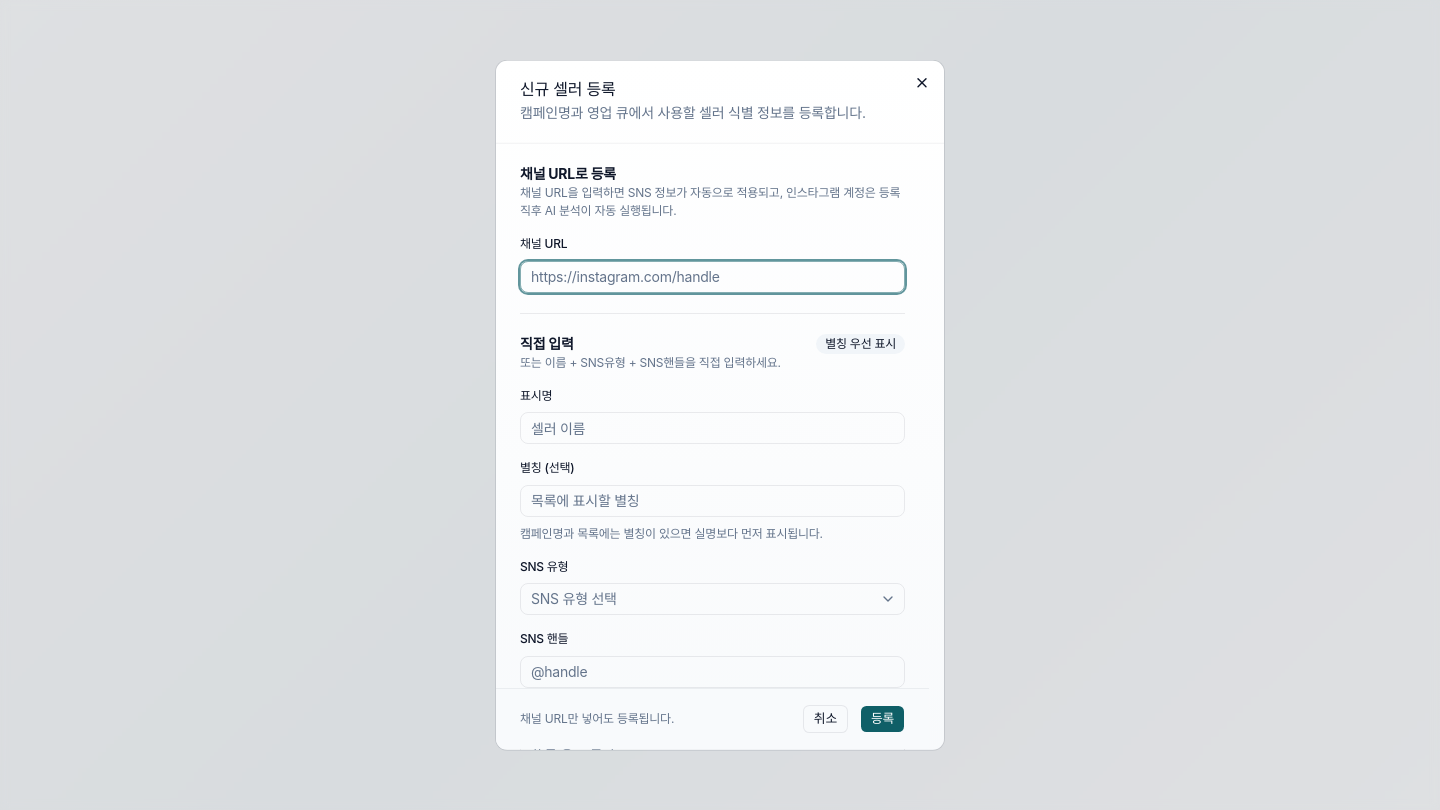
SellersPanel › Create mode › shows a field error for unsupported channel URL without posting
Type "https://example.com/test_user" into the field labelled "채널 URL" at (712, 276), box [520, 260, 905, 292]
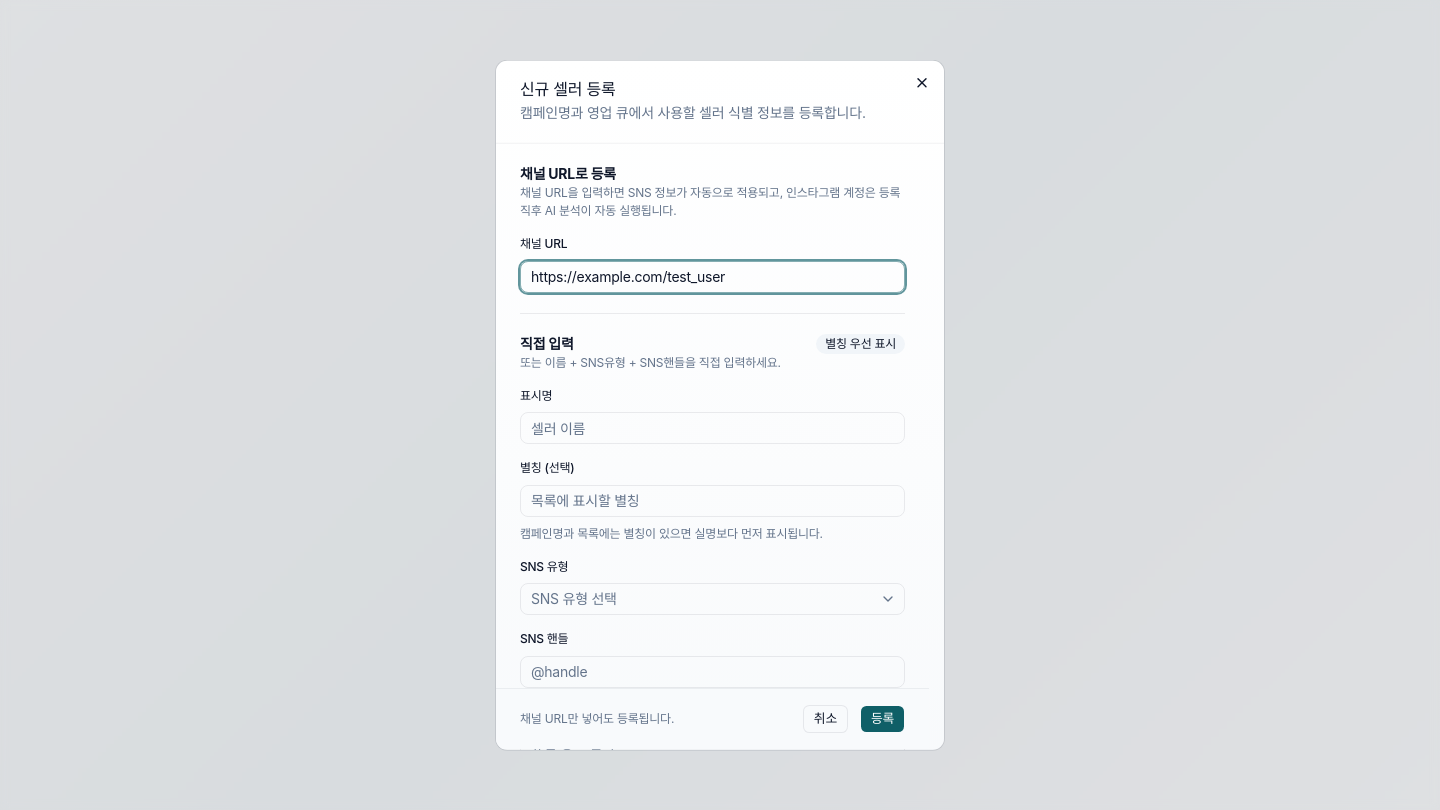
Click the button "등록" at (882, 719), box [860, 705, 905, 733]
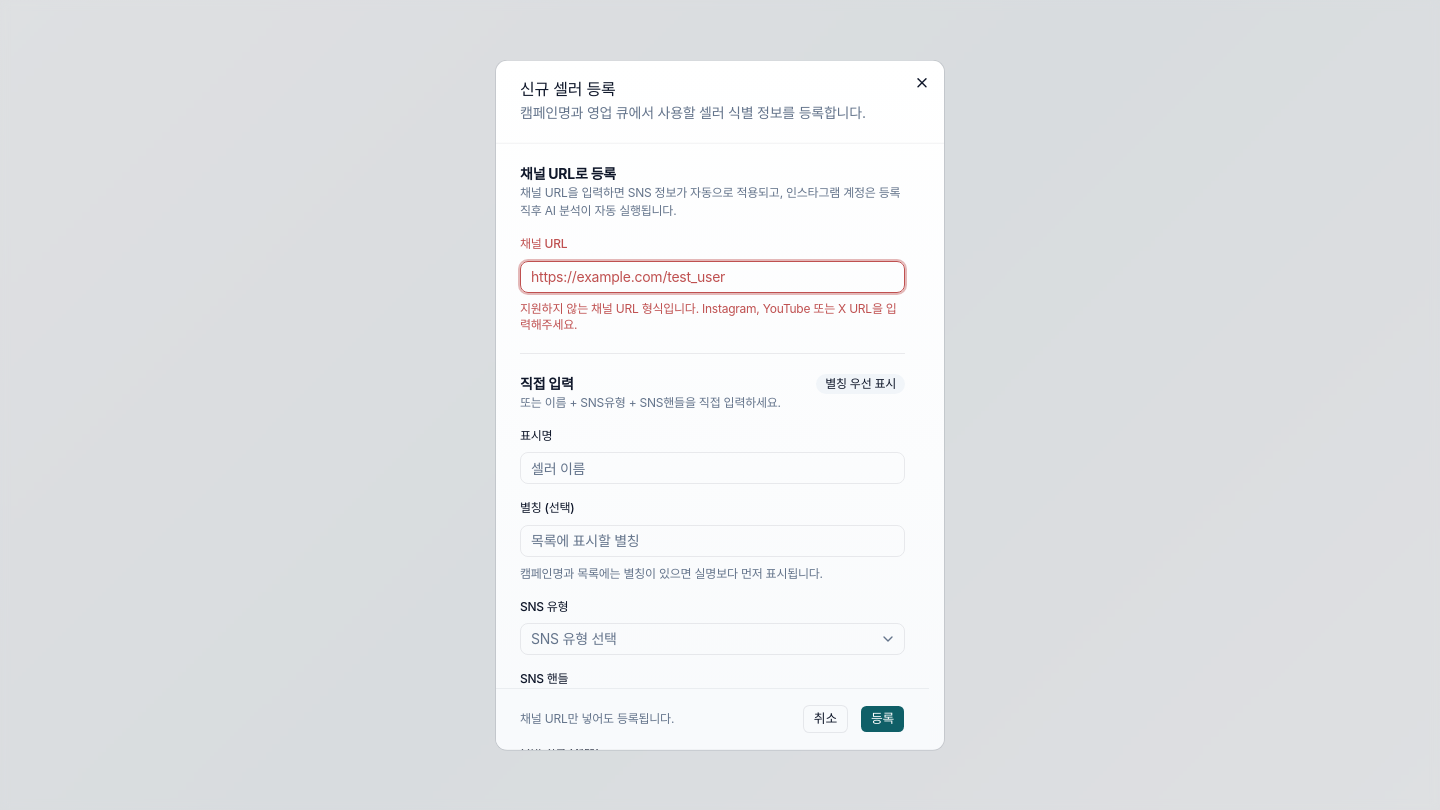
Expected: the text "지원하지 않는 채널 URL 형식입니다. Instagram, YouTube 또는 X URL을 입력해주세요." is shown, [520, 300, 905, 332]
